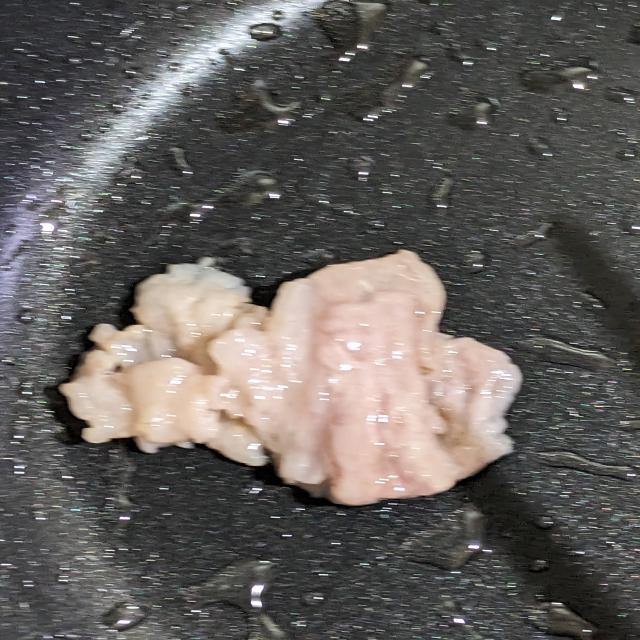NG undercooked pork,: (47, 222, 533, 521)
